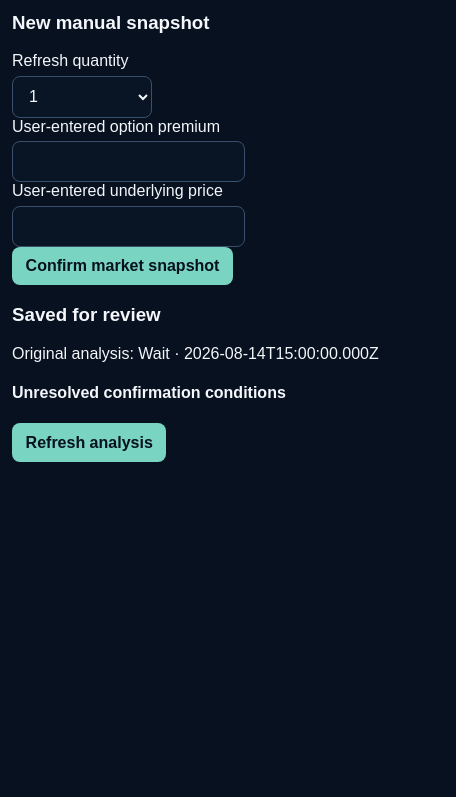
Test: Dashboard › manually refreshes a saved Wait candidate and shows before/after evidence with timestamps
Type "1" into the number field labelled "User-entered option premium" at (128, 162), box [12, 141, 245, 182]
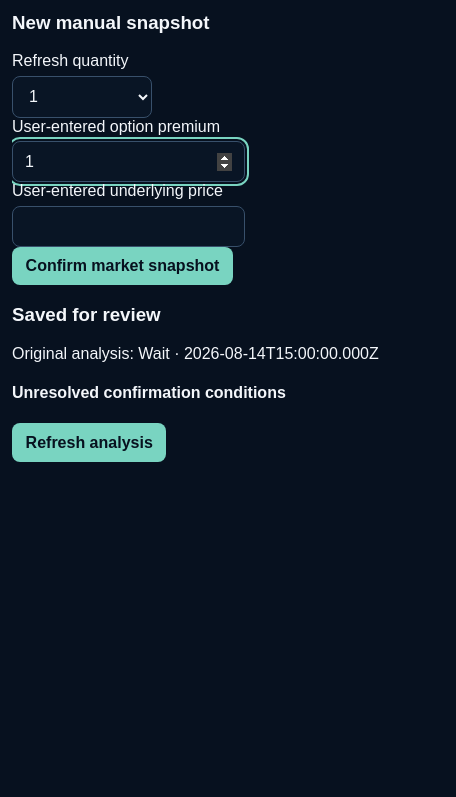
Type "221" into the number field labelled "User-entered underlying price" at (128, 226), box [12, 206, 245, 247]
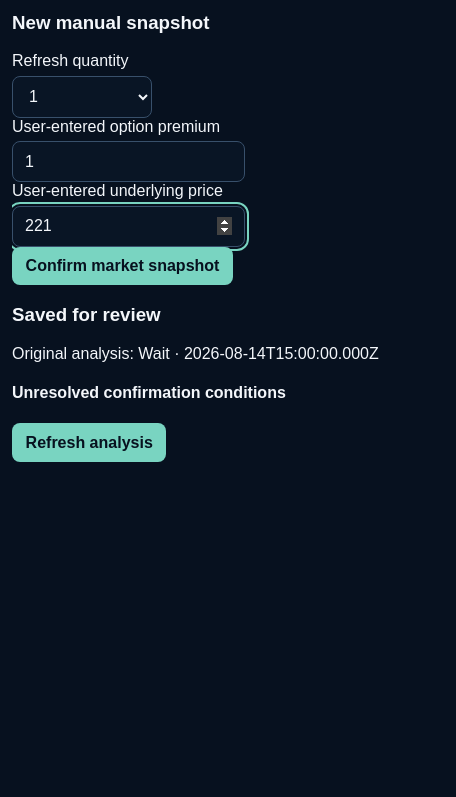
Click the button "Confirm market snapshot" at (122, 266), box [12, 247, 233, 285]
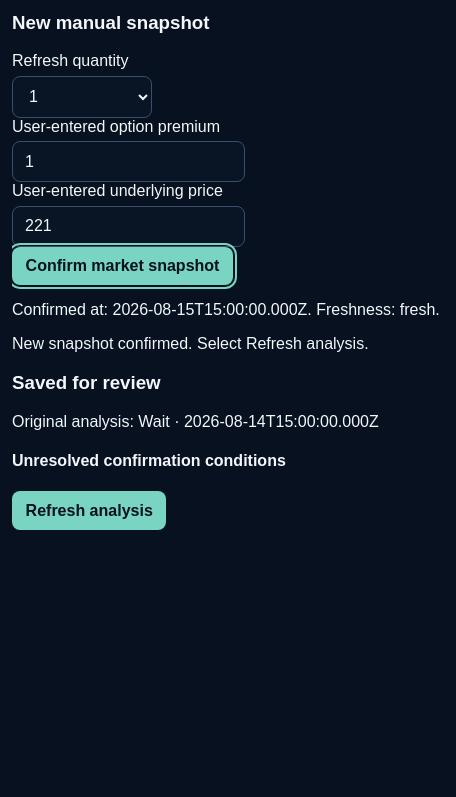
Click the button "Refresh analysis" at (89, 511), box [12, 491, 166, 530]
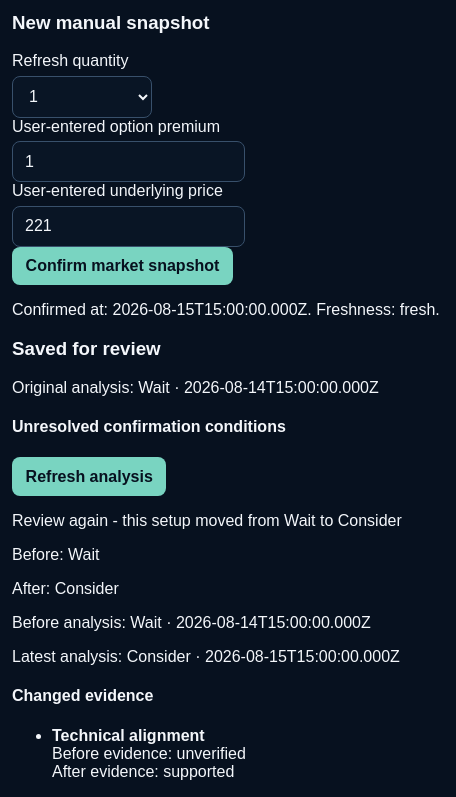
Now the text "Before: Wait" is shown, box [12, 546, 99, 563]
Now the text "After: Consider" is shown, box [12, 580, 119, 597]
Now the text "Review again - this setup moved from Wait to Consider" is shown, box [12, 512, 402, 529]
